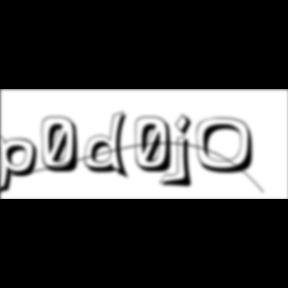0: (134, 115, 180, 174), (42, 115, 86, 174)
O: (196, 117, 262, 176)
d: (85, 110, 135, 182)
j: (172, 113, 200, 191)
p: (0, 132, 44, 198)
